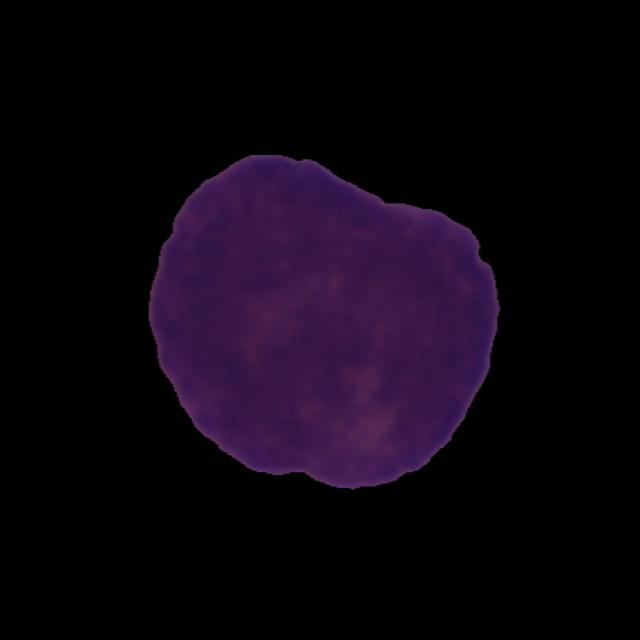ALL Positive Cell: (145, 151, 500, 491)
